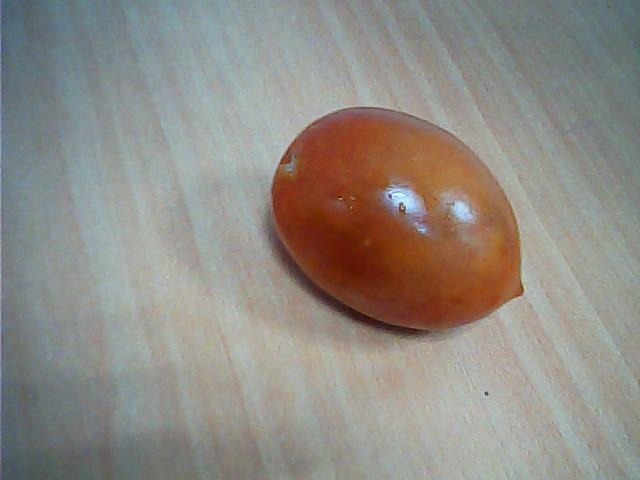verde: (269, 103, 530, 341)
